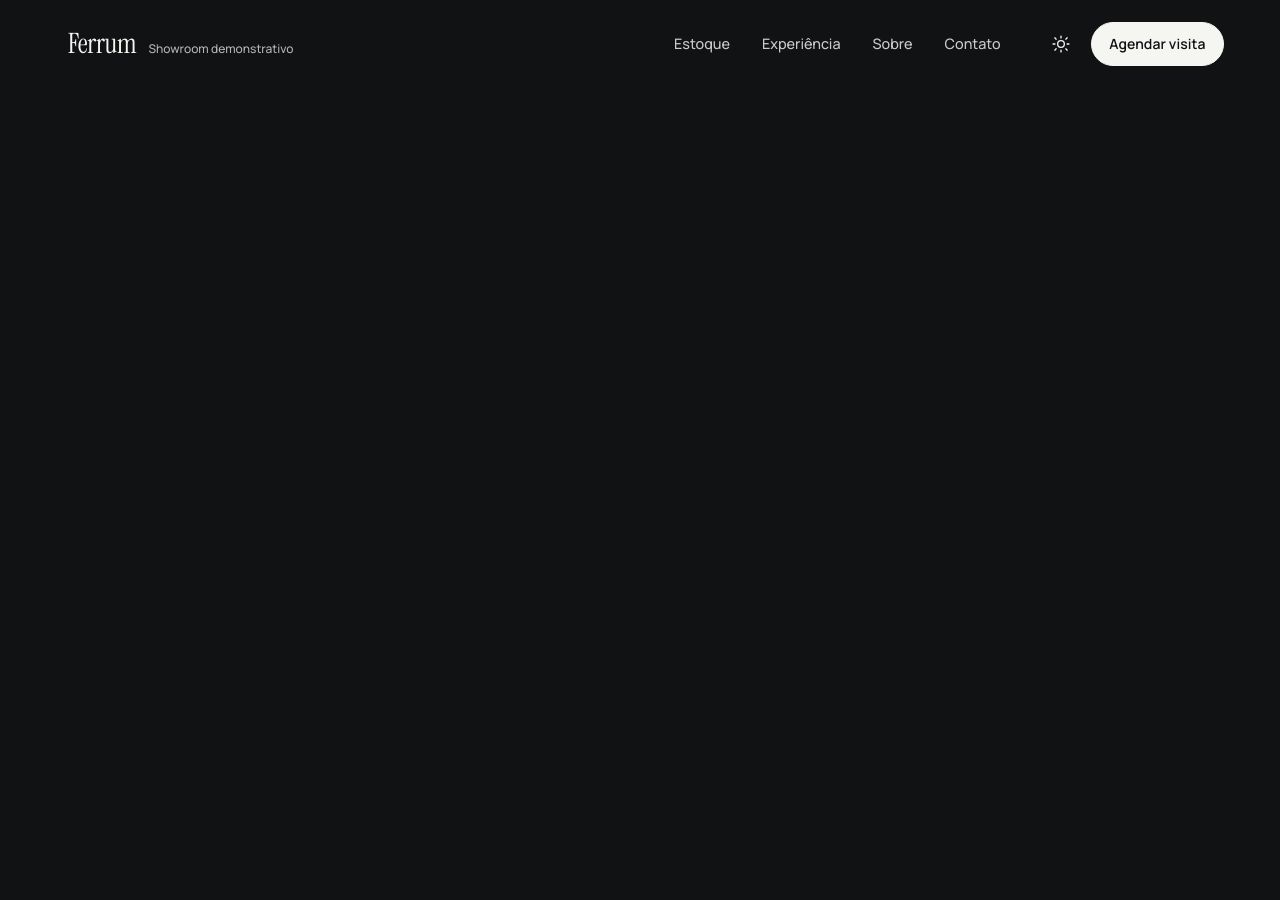
Test case: navbar e tema › alterna tema e persiste a preferência
The width and height of the screenshot is (1280, 900).
Click the button named "Ativar tema claro" at point(1061, 44), box [1039, 22, 1083, 66]
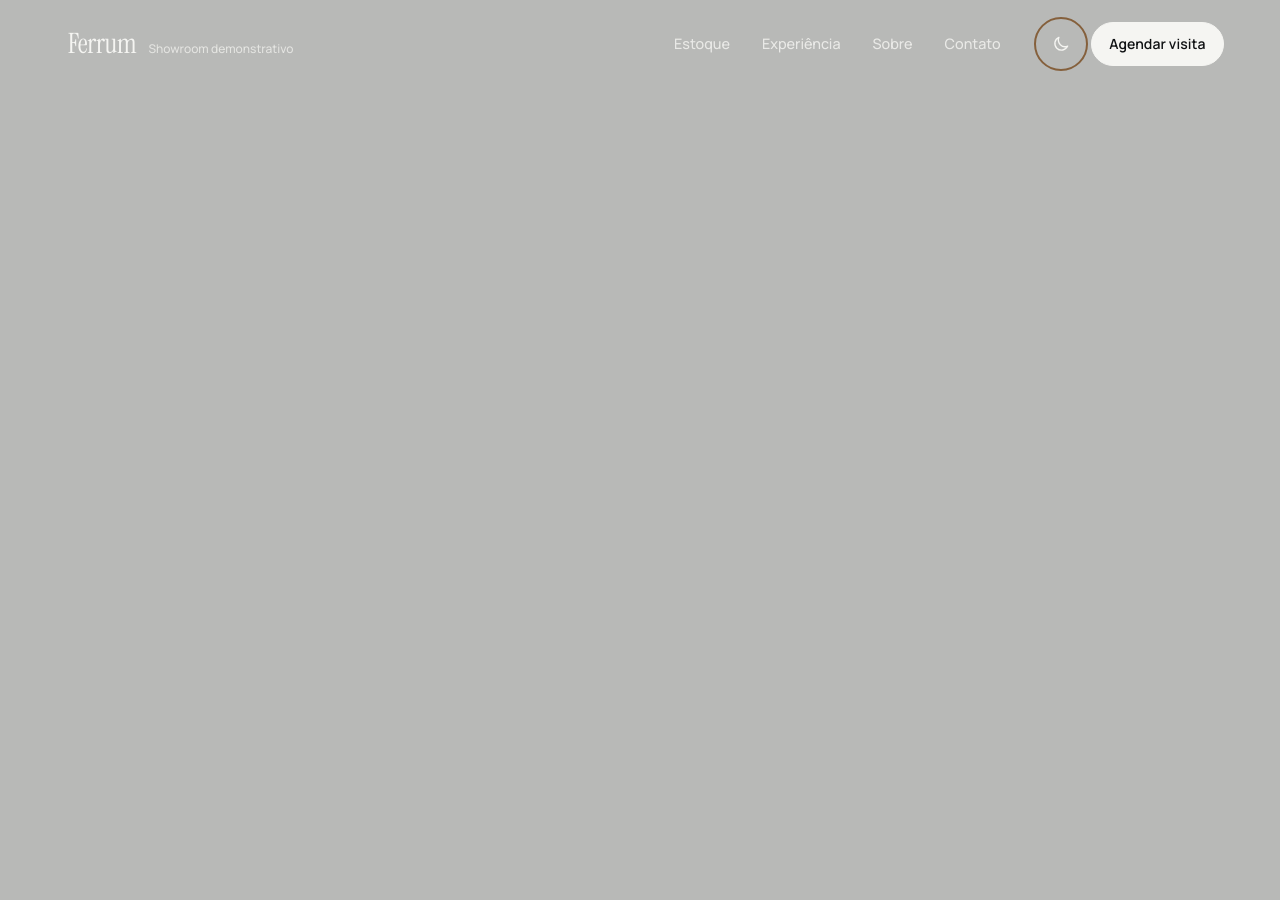
Expected: the button named "Ativar tema escuro" is shown, [1039, 22, 1083, 66]
